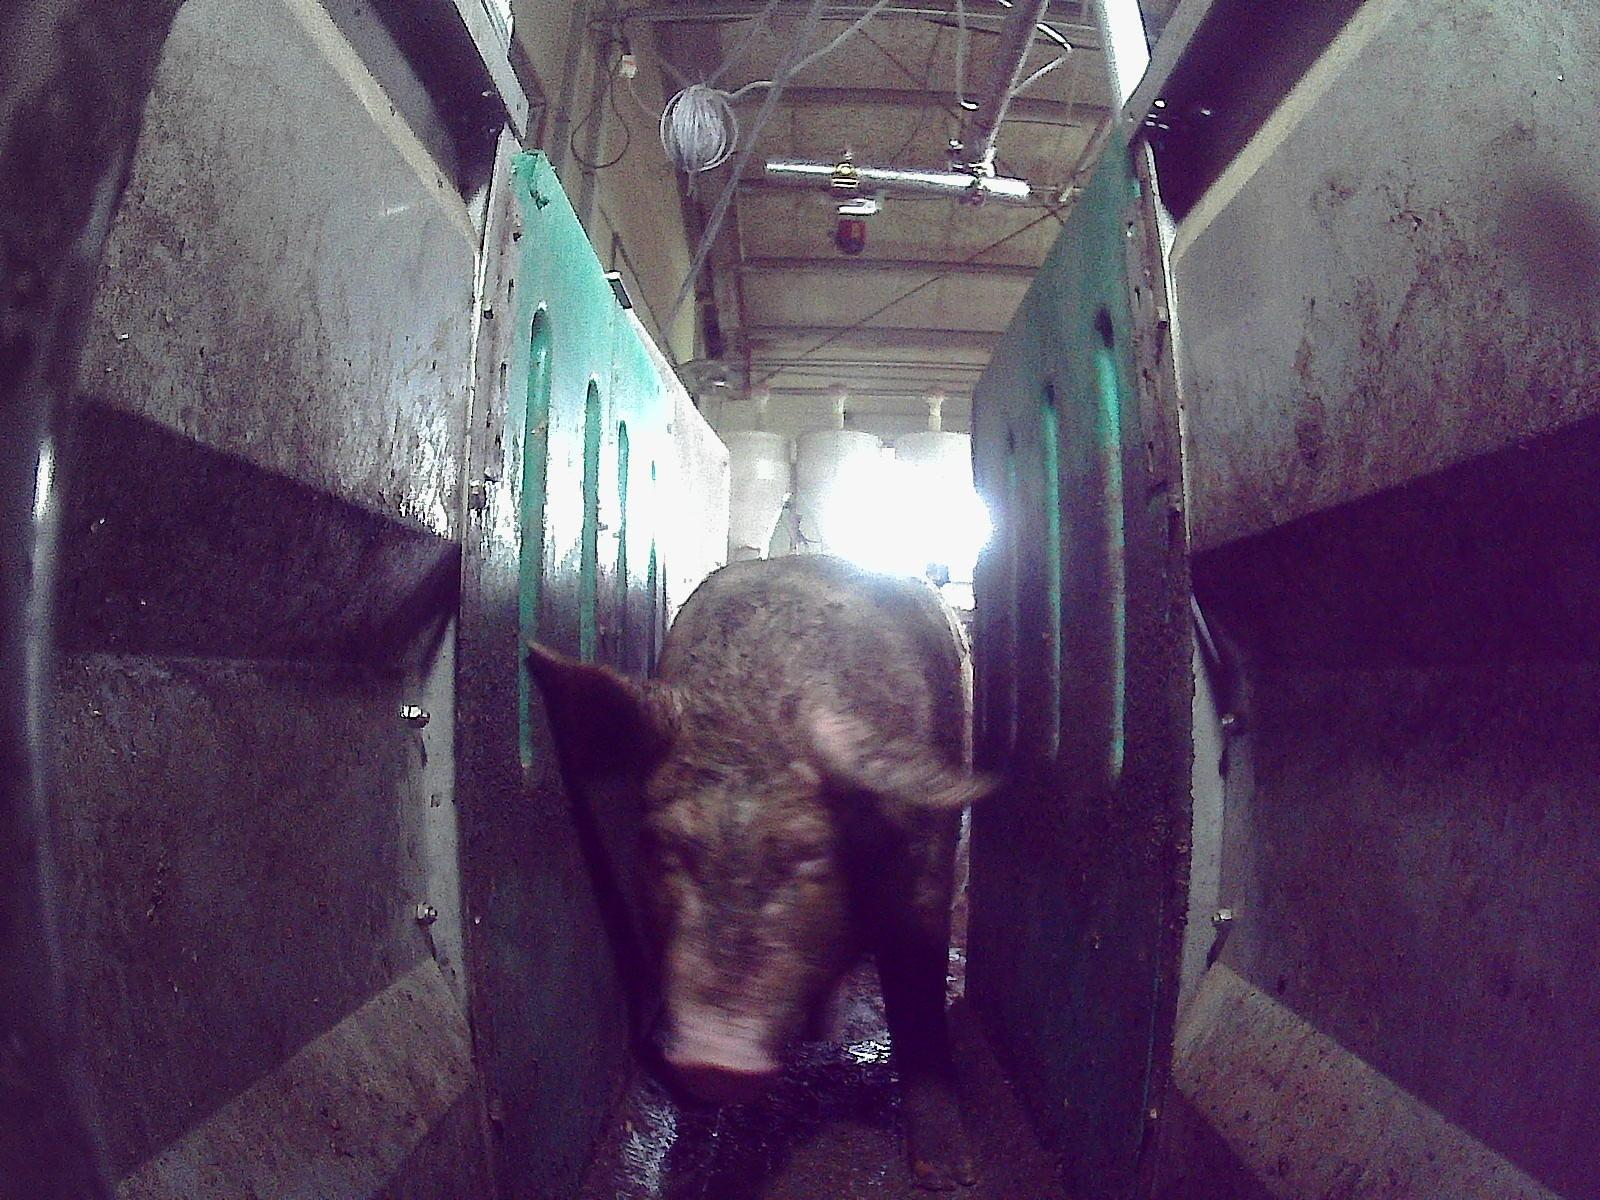Face: (637, 692, 868, 1103)
